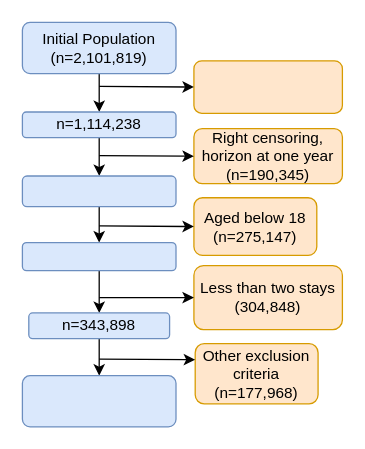
Some shapes in this 365 by 449 pixel diagram are drawn without their labels. Here are the shapes that lost their labels. From the top down, the box of each, then its label:
(193, 60, 342, 113): Poor quality of the Information system (n=987,581)
(21, 175, 176, 207): n=923,893
(21, 241, 176, 271): n=648,746
(21, 374, 176, 427): n=165,930 with 4,360 cases
